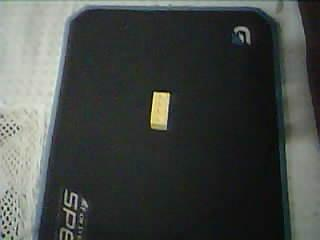lego: (148, 90, 171, 131)
